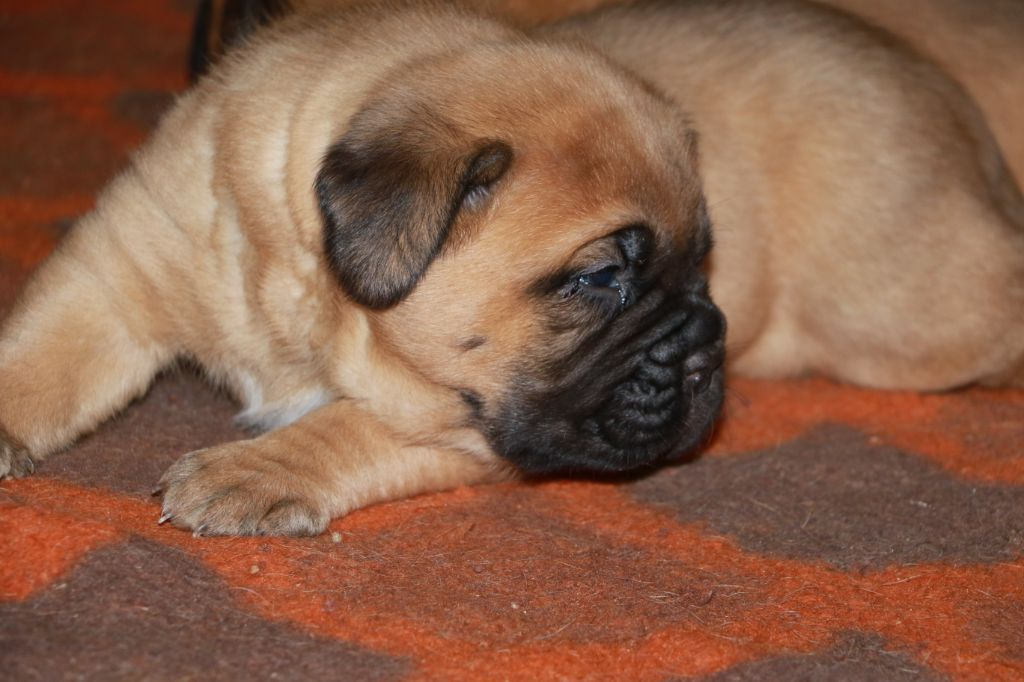dogue_de_bordeaux: (0, 0, 1024, 541)
